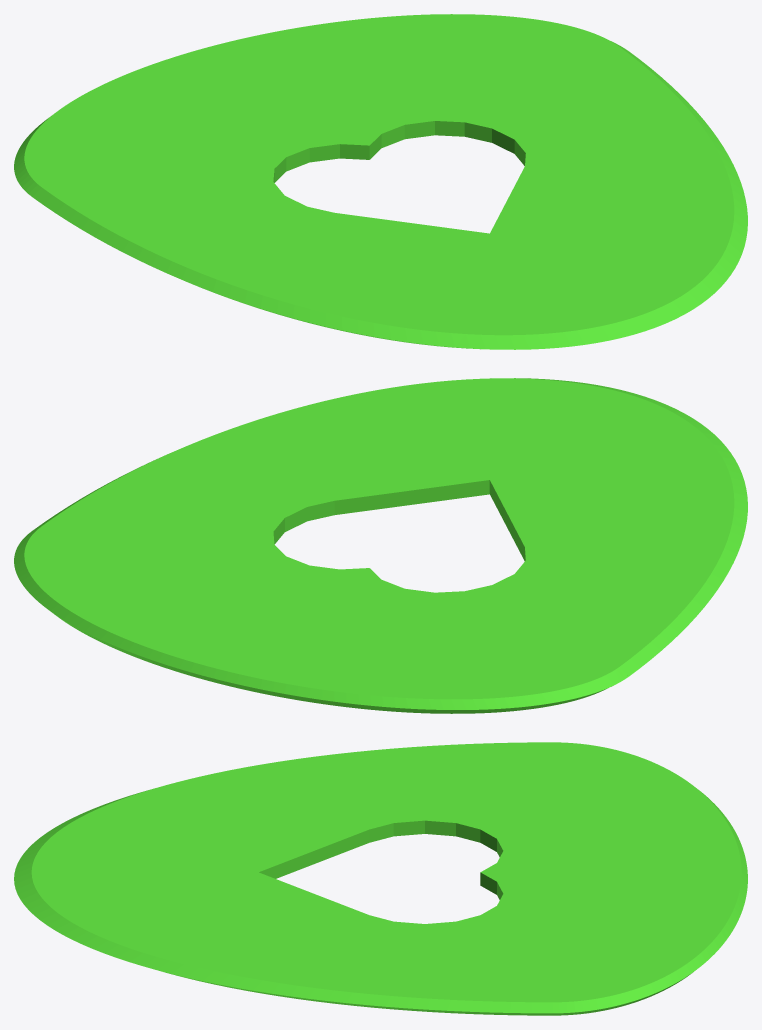
The model's file is pickl.fbx.
3 renders of one model, top to bottom at view 1: azimuth 30°, elevation 25°; view 2: azimuth 150°, elevation 25°; view 3: azimuth 270°, elevation 25°, orthographic. The views are drawn at different scales.
Visible parts, largest first — view 1: uploads_files_648902_pick_6+0,60; view 2: uploads_files_648902_pick_6+0,60; view 3: uploads_files_648902_pick_6+0,60.
Boxes of the visible parts, <box> form: uploads_files_648902_pick_6+0,60: <box>14,14,747,349</box>; uploads_files_648902_pick_6+0,60: <box>14,378,747,713</box>; uploads_files_648902_pick_6+0,60: <box>14,742,747,1015</box>.
Bounding box in the file's own units: 26 × 0.6 × 30.
